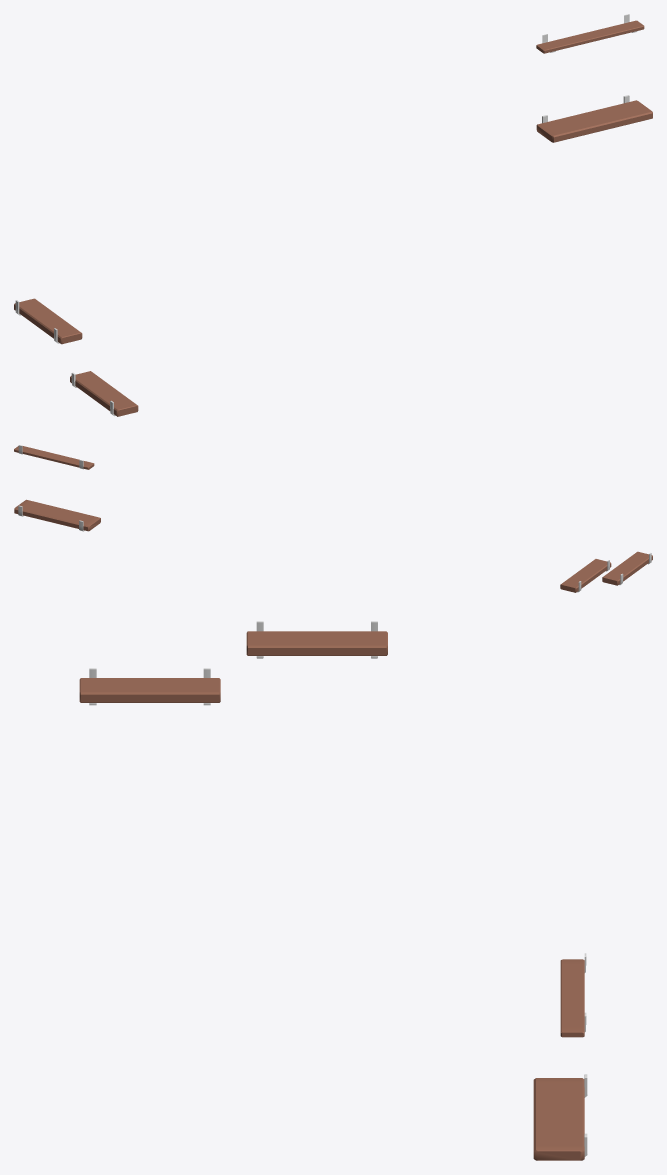
File: FloatingShelves.fbx
The picture shows the model from 3 angles, top to bottom: view 1: azimuth 30°, elevation 25°; view 2: azimuth 150°, elevation 25°; view 3: azimuth 270°, elevation 25°; orthographic projection. The views are drawn at different scales.
Parts seen in each view (by area): view 1: FloatingShelf.004, FloatingShelf.003, FloatingShelf.002, FloatingShelf.001; view 2: FloatingShelf.004, FloatingShelf.003, FloatingShelf.002, FloatingShelf.001; view 3: FloatingShelf.004, FloatingShelf.002, FloatingShelf.003, FloatingShelf.001.
Part boxes in pixels (x1,y1,x2,y2): FloatingShelf.004: [536, 95, 652, 142]; FloatingShelf.003: [14, 298, 82, 344]; FloatingShelf.002: [70, 371, 138, 416]; FloatingShelf.001: [536, 14, 644, 53]; FloatingShelf.004: [14, 499, 100, 531]; FloatingShelf.003: [560, 559, 611, 592]; FloatingShelf.002: [602, 551, 652, 585]; FloatingShelf.001: [14, 445, 94, 469]; FloatingShelf.004: [533, 1074, 587, 1160]; FloatingShelf.002: [79, 668, 220, 705]; FloatingShelf.003: [246, 621, 387, 658]; FloatingShelf.001: [560, 953, 586, 1037].
Bounding box in the file's own units: 828 × 131 × 354.
